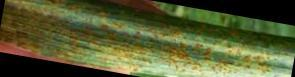Wheat: (6, 0, 84, 40), (160, 44, 209, 74), (98, 43, 150, 65)
